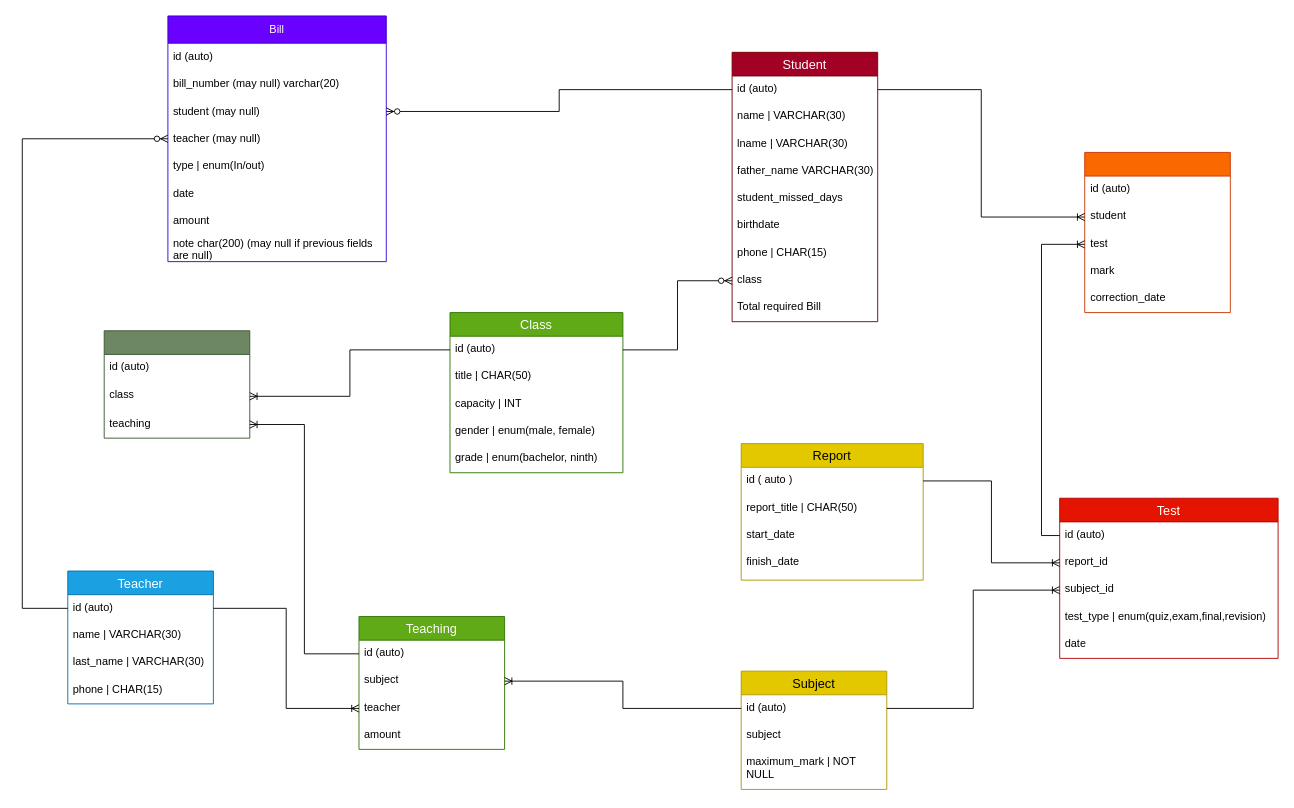
The diagram is 1294 pixels wide and 808 high, and some of its shapes have lost their labels. The shapes that lost their labels are listed below. From the top down, each one's box as (x1, y1, x2, y2) in pixels, then its label:
(1084, 152, 1230, 313): Test Mark
(103, 330, 250, 438): Teaching_Class
